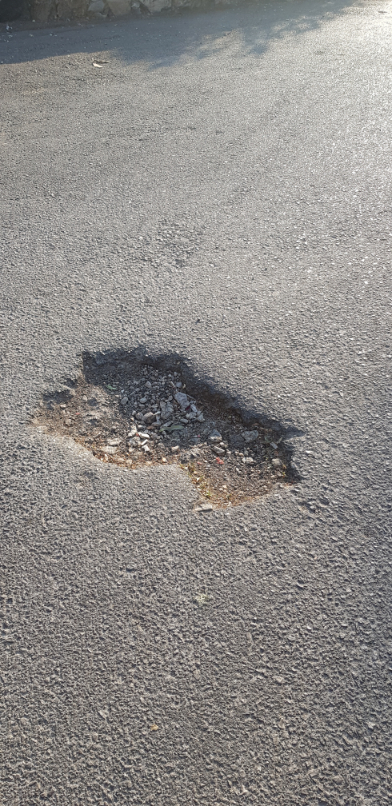pothole: (24, 341, 310, 516)
